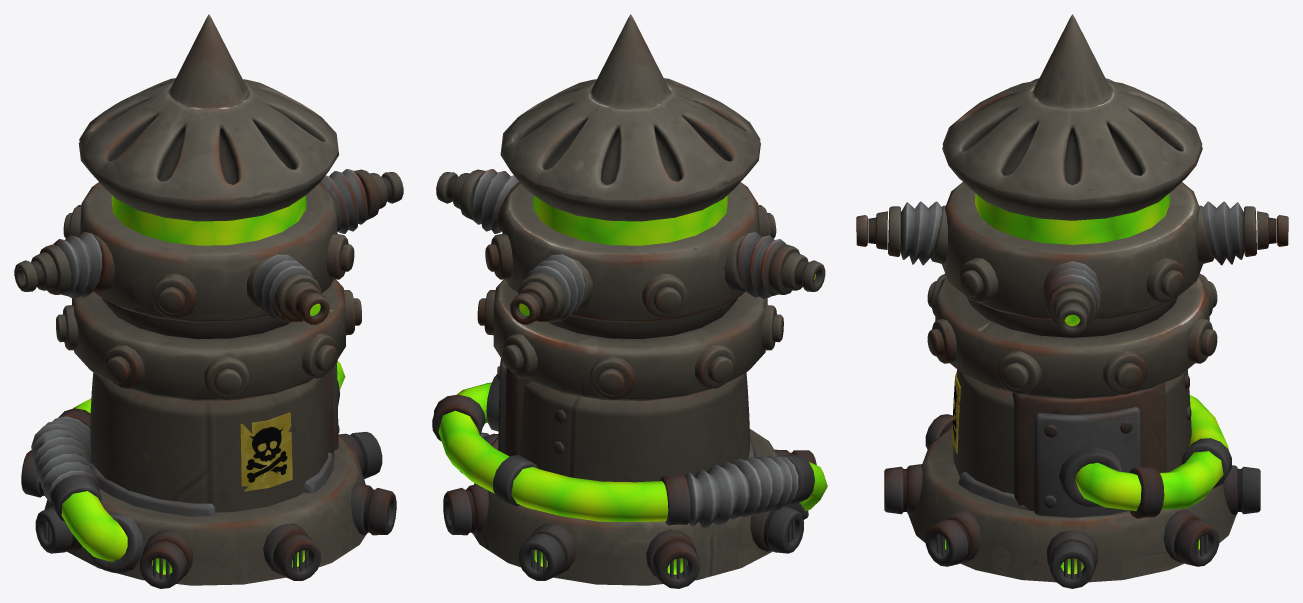
File: SM_TowerDefense_Venom_Lv4.fbx
The picture shows the model from 3 angles, left to right: view 1: azimuth 30°, elevation 25°; view 2: azimuth 150°, elevation 25°; view 3: azimuth 270°, elevation 25°; orthographic projection.
Visible parts, largest first — view 1: SM_TowerDefense_Venom_Lv4; view 2: SM_TowerDefense_Venom_Lv4; view 3: SM_TowerDefense_Venom_Lv4.
Boxes of the visible parts, x1,y1,x2,y2 form: SM_TowerDefense_Venom_Lv4: (14,14,403,588); SM_TowerDefense_Venom_Lv4: (432,14,827,588); SM_TowerDefense_Venom_Lv4: (856,14,1288,588).
Bounding box in the file's own units: 1483 × 1902 × 1483.
